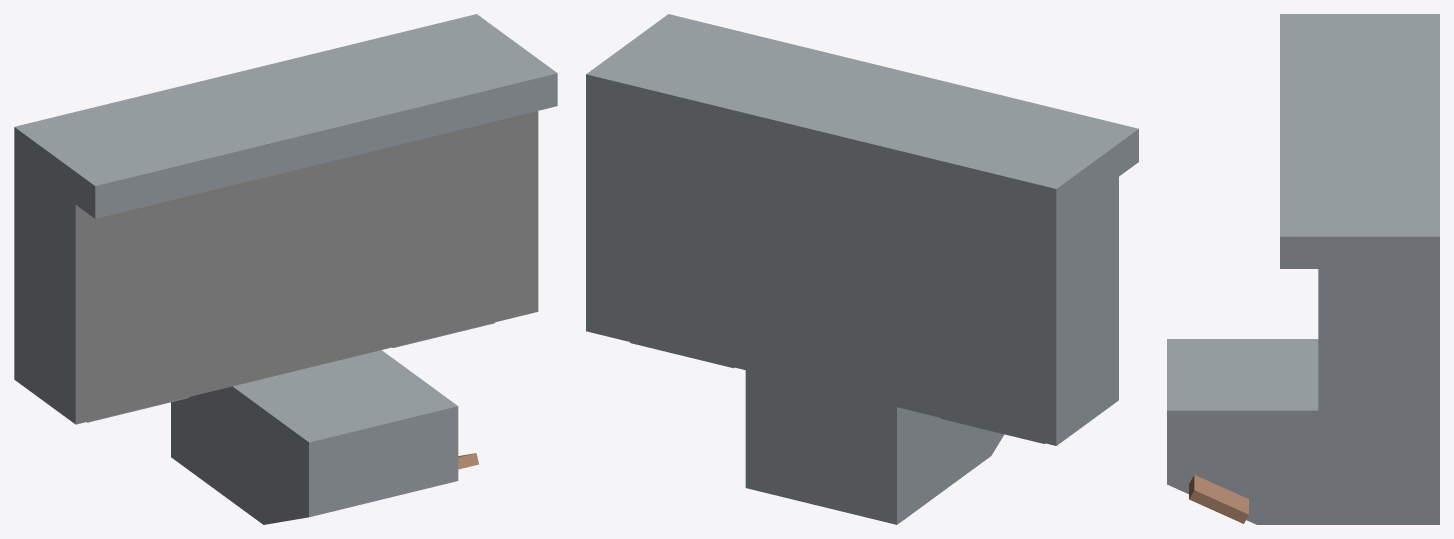
Rendered from dynamic_checkweigher.dae.
3 views of the same model, side by side, from view 1: azimuth 30°, elevation 25°; view 2: azimuth 150°, elevation 25°; view 3: azimuth 270°, elevation 25° (orthographic). The views are drawn at different scales.
Visible parts, largest first — view 1: instance_0, instance_0_005; view 2: instance_0; view 3: instance_0, instance_0_002.
Part boxes in pixels (x1,y1,x2,y2): instance_0: [14, 14, 557, 524]; instance_0_005: [75, 111, 538, 424]; instance_0: [586, 14, 1138, 524]; instance_0: [1167, 14, 1439, 524]; instance_0_002: [1189, 475, 1248, 523].
Bounding box in the file's own units: 930 × 708 × 481.
